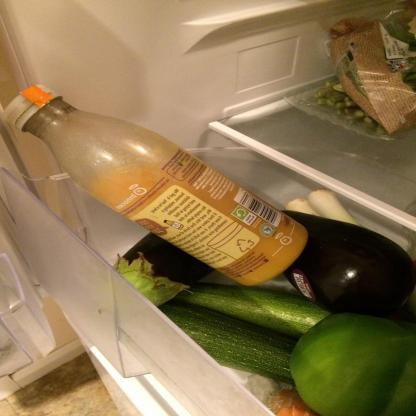plastik: (0, 83, 304, 287)
